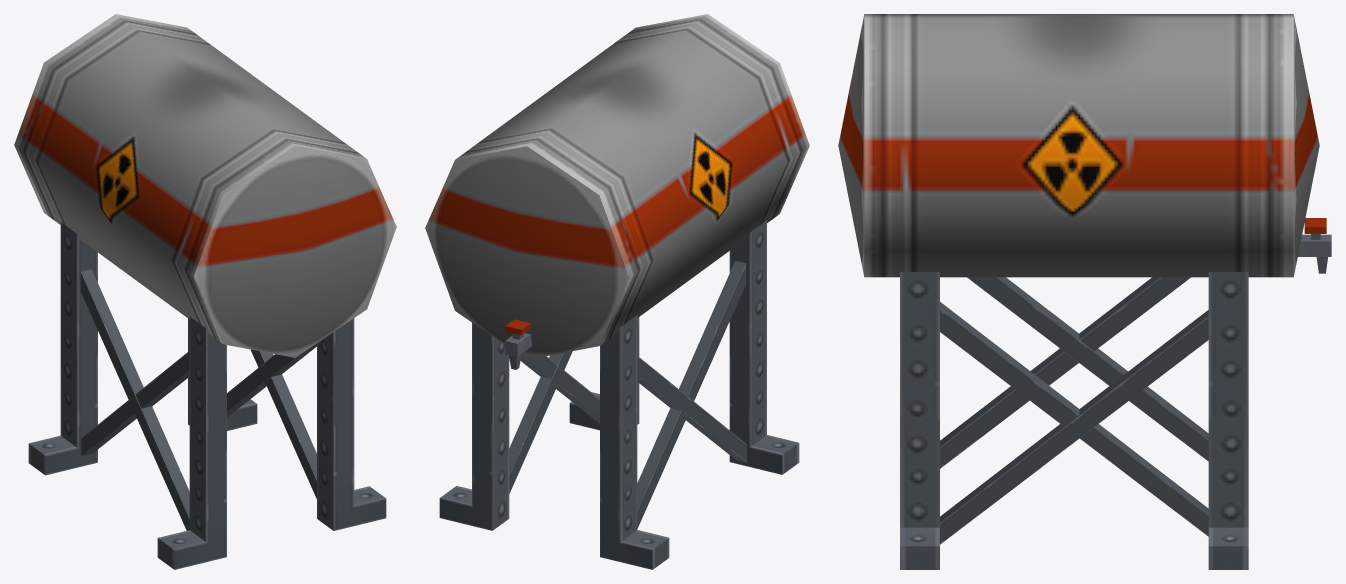
Rendered from fuel_tank_small.fbx.
The picture shows the model from 3 angles, left to right: view 1: azimuth 30°, elevation 25°; view 2: azimuth 150°, elevation 25°; view 3: azimuth 270°, elevation 25°; orthographic projection. The views are drawn at different scales.
Parts seen in each view (by area): view 1: fuel_tank_small; view 2: fuel_tank_small; view 3: fuel_tank_small.
Boxes of the visible parts, left/top/right/bottom form: fuel_tank_small: left=14, top=14, right=396, bottom=569; fuel_tank_small: left=425, top=14, right=809, bottom=569; fuel_tank_small: left=838, top=14, right=1331, bottom=569.
Bounding box in the file's own units: 2.7 × 4.99 × 4.56.
